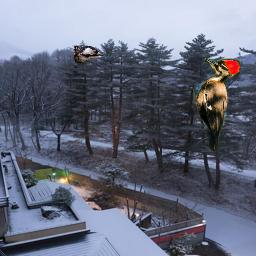Woodpecker: (192, 57, 240, 152), (74, 44, 105, 63)
